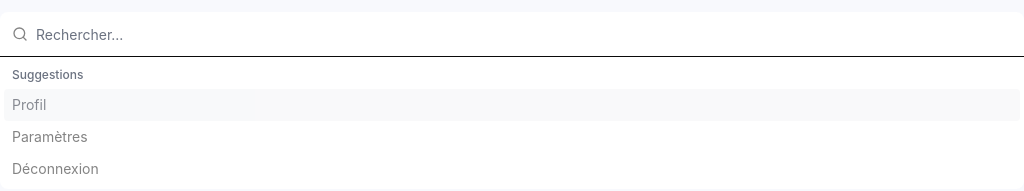
Test: Command Component › filtre les éléments en fonction de la saisie utilisateur
// On tape une recherche qui ne correspond qu'à "Profil"
Type "Prof" into the dropdown with placeholder "Rechercher...". click: (524, 34)
box: [36,12,1012,56]
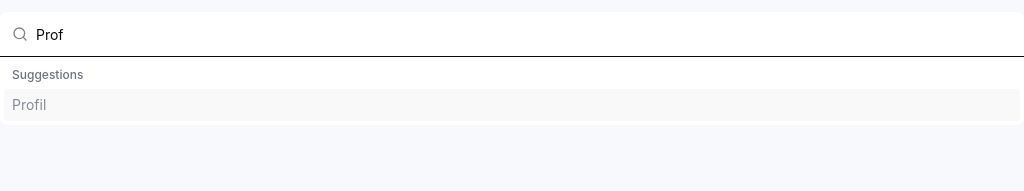
Expected: the option "Profil" is shown, [4,89,1020,121]
Expected: the option "Paramètres" is gone
